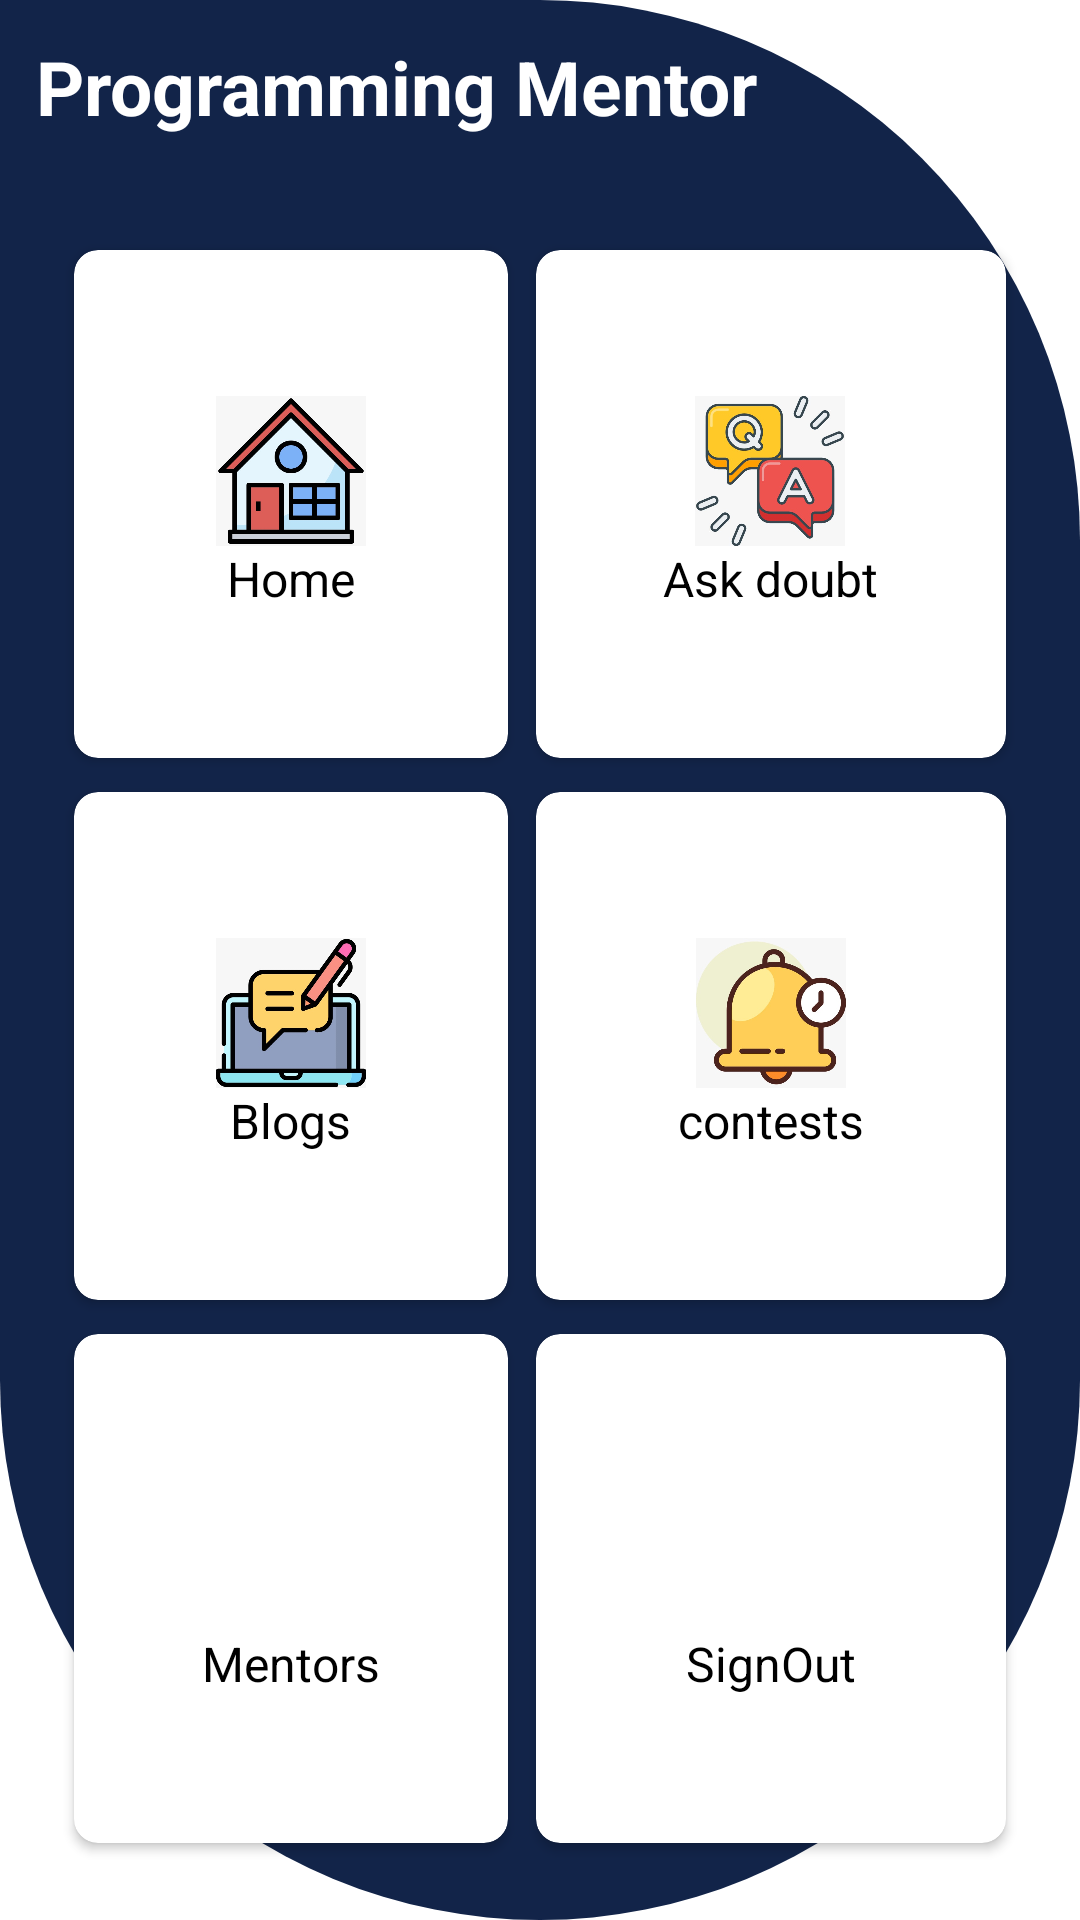

Where to tap for icons on this 1080 × 1920 app screen, as point (x, y):
write blog: point (291, 1013)
